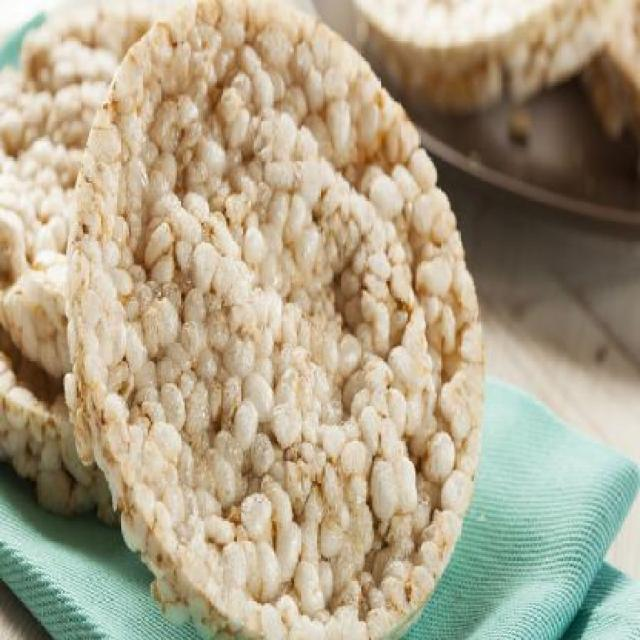Gallette di riso packaged: (59, 2, 487, 640)
